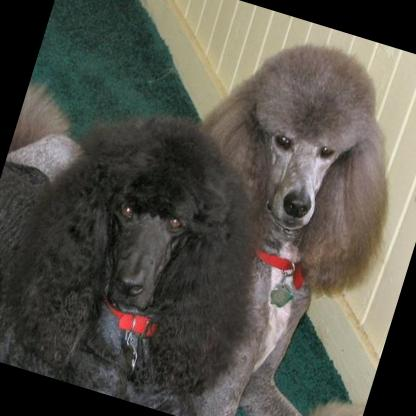standard_poodle: (113, 14, 416, 416), (0, 73, 298, 416)
